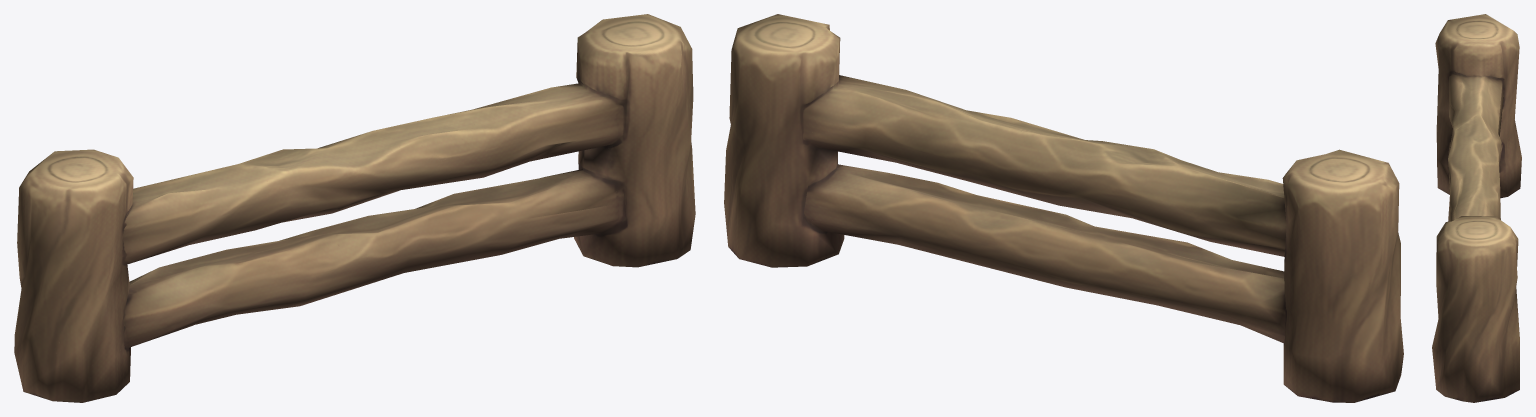
File: fence.glb
3 renders of one model, left to right at view 1: azimuth 30°, elevation 25°; view 2: azimuth 150°, elevation 25°; view 3: azimuth 270°, elevation 25°, orthographic. The views are drawn at different scales.
Visible parts, largest first — view 1: geometry_0.001; view 2: geometry_0.001; view 3: geometry_0.001.
Boxes of the visible parts, x1,y1,x2,y2 form: geometry_0.001: (14, 14, 695, 402); geometry_0.001: (724, 14, 1403, 402); geometry_0.001: (1432, 14, 1521, 402).
Bounding box in the file's own units: 1.99 × 0.5993 × 0.3167.
1 material, 1 textured.
